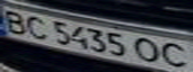3: (84, 26, 106, 55)
4: (66, 24, 87, 51)
5: (48, 18, 72, 47), (106, 29, 130, 58)
B: (0, 8, 30, 35)
C: (157, 39, 193, 70), (21, 12, 51, 41)
O: (133, 35, 166, 65)
